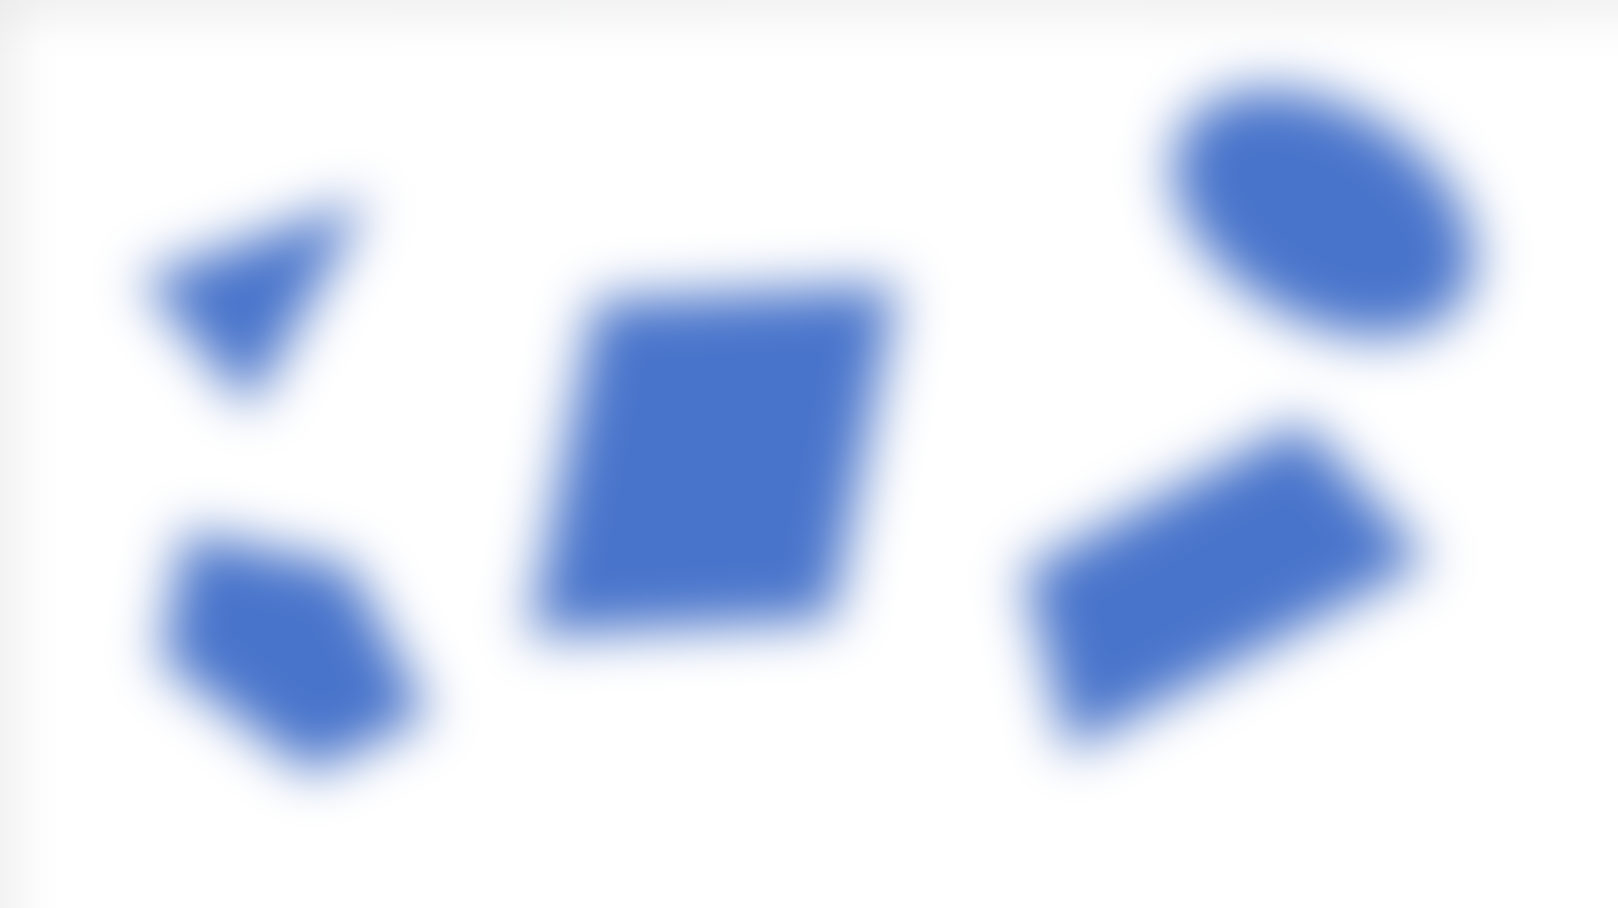circle: (1146, 44, 1511, 360)
parallelogram: (477, 276, 957, 652)
pentagon: (121, 503, 458, 807)
trapezium: (1010, 413, 1445, 751)
triangle: (152, 202, 389, 392)
